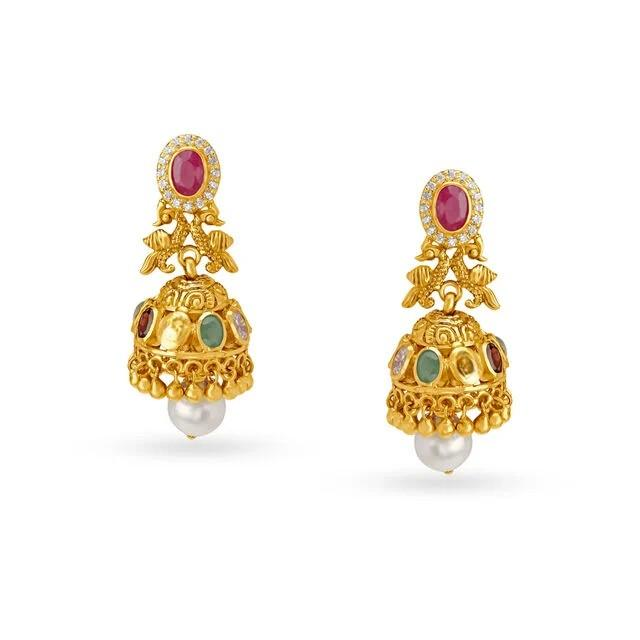missing gem: (158, 312, 192, 350), (453, 348, 482, 383)
